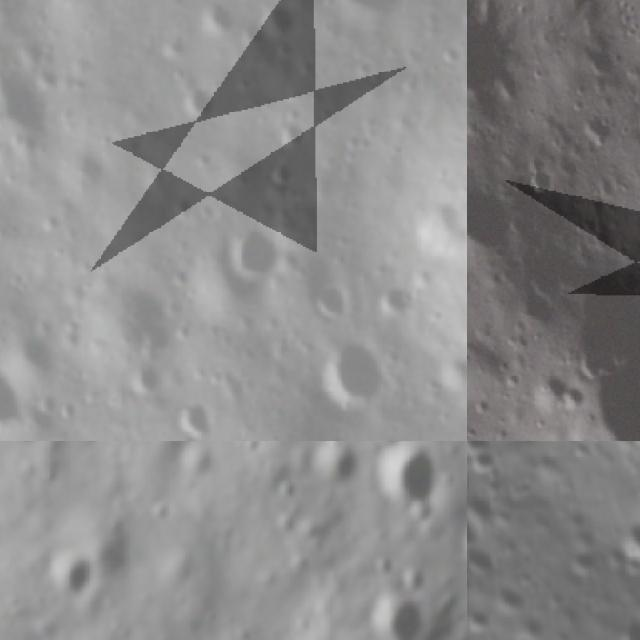crater: (467, 163, 539, 270), (299, 338, 387, 412), (370, 441, 447, 516), (529, 360, 597, 426), (36, 542, 98, 610), (362, 586, 433, 640), (227, 224, 281, 294), (307, 441, 361, 494), (467, 478, 512, 539), (319, 0, 408, 30), (244, 4, 296, 48), (186, 0, 239, 43), (0, 360, 27, 441), (170, 392, 214, 441), (298, 286, 350, 325), (467, 615, 545, 640), (611, 502, 640, 564), (182, 88, 224, 126), (467, 536, 499, 585), (602, 601, 640, 640), (467, 441, 499, 482), (448, 518, 467, 578), (0, 441, 49, 464), (467, 496, 484, 561), (59, 441, 116, 454), (467, 441, 498, 463), (505, 627, 542, 640)
